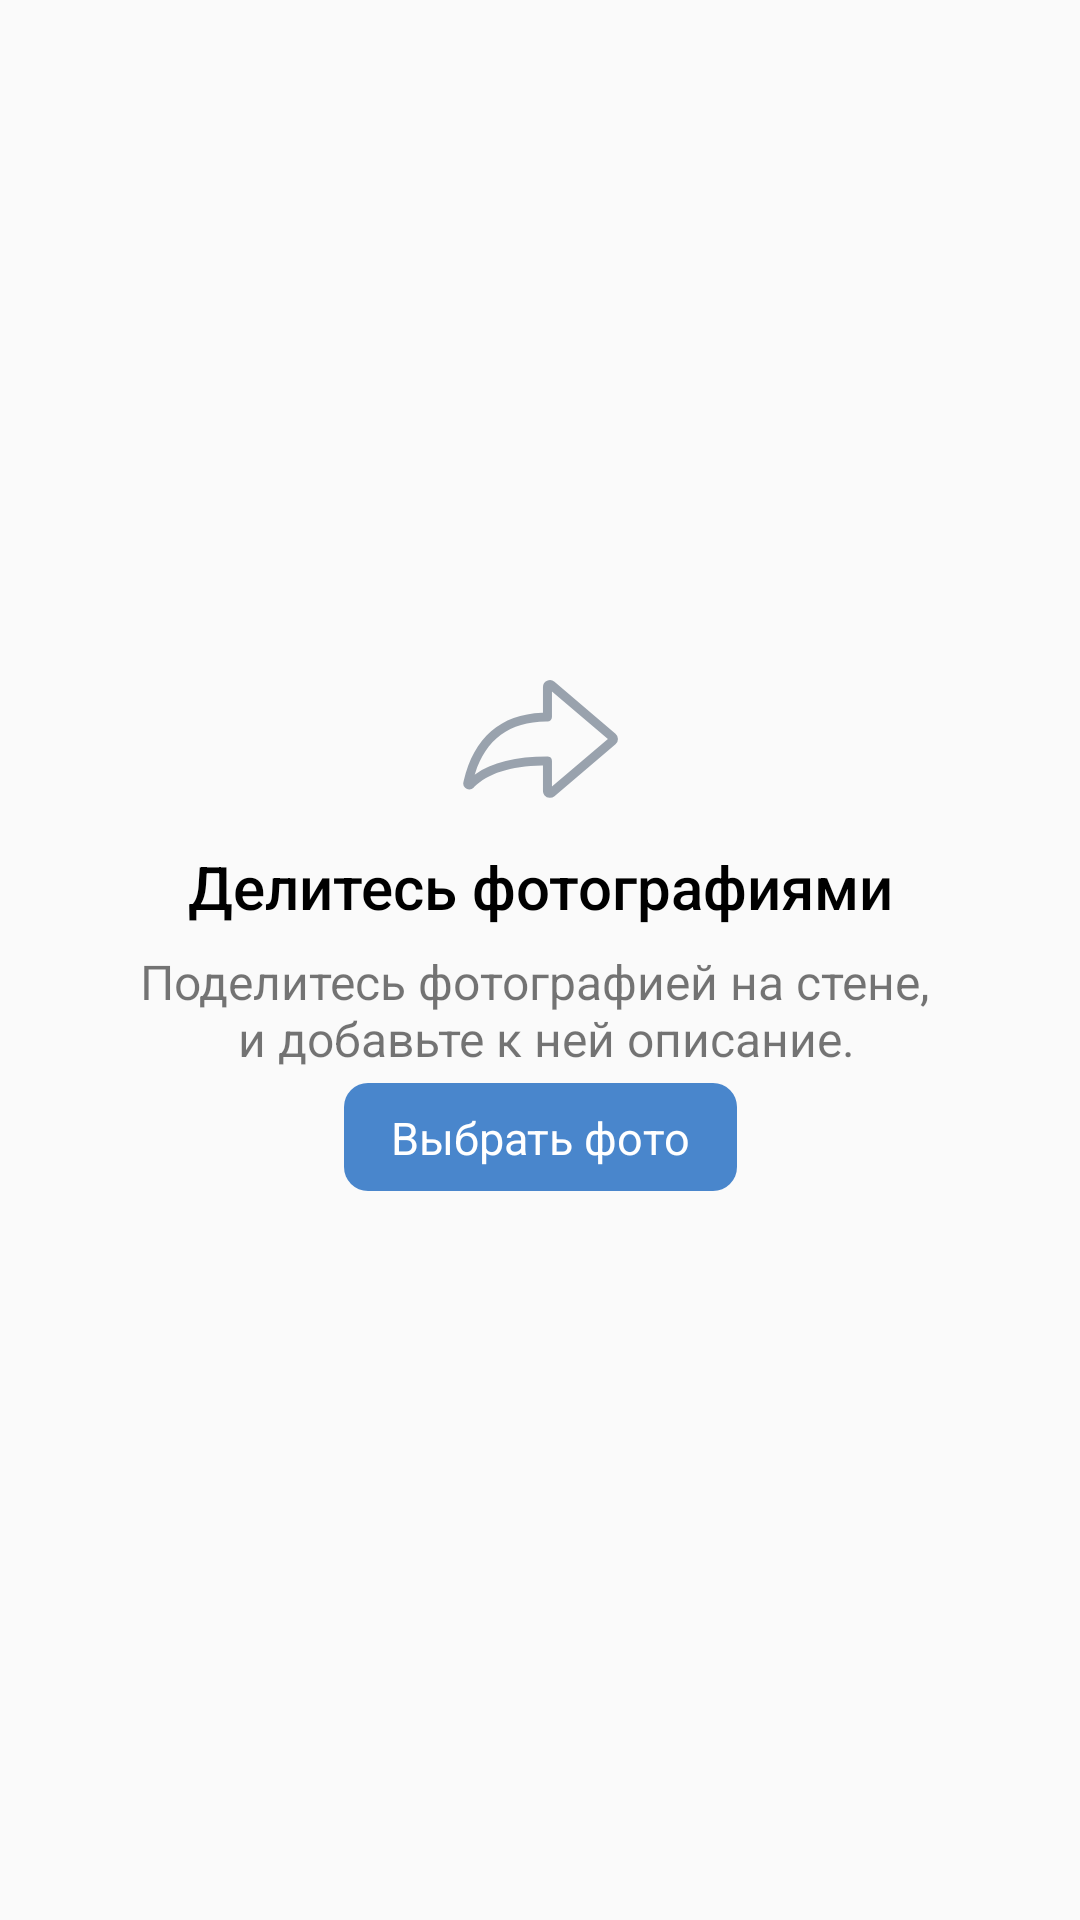

Icons on this 1080*1920 Android screen, each with the point to tap as point (x, y):
share: point (540, 739)
